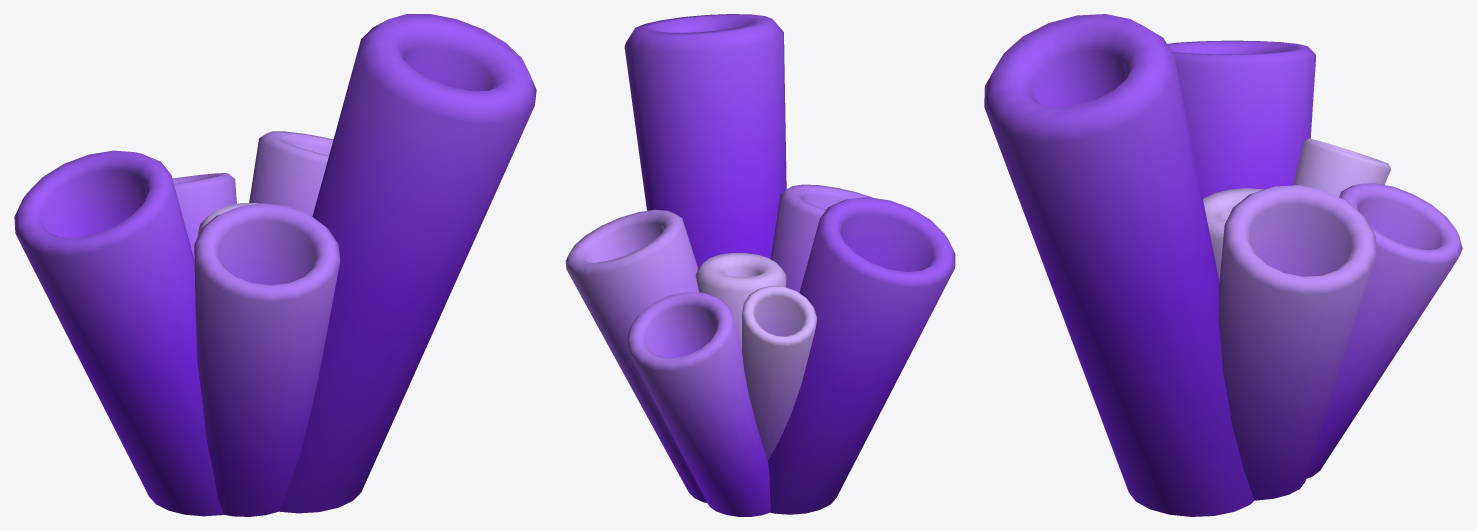
The model's file is Coral_Purple_02.fbx.
The picture shows the model from 3 angles, left to right: view 1: azimuth 30°, elevation 25°; view 2: azimuth 150°, elevation 25°; view 3: azimuth 270°, elevation 25°; orthographic projection. The views are drawn at different scales.
Visible parts, largest first — view 1: Coral_Purple_02; view 2: Coral_Purple_02; view 3: Coral_Purple_02.
Part boxes in pixels (box(x1,y1,x2,y2)): Coral_Purple_02: box(14, 14, 536, 516); Coral_Purple_02: box(565, 14, 955, 516); Coral_Purple_02: box(984, 14, 1462, 516).
Size of the model in its own units: 64.49 by 67.05 by 58.89.
